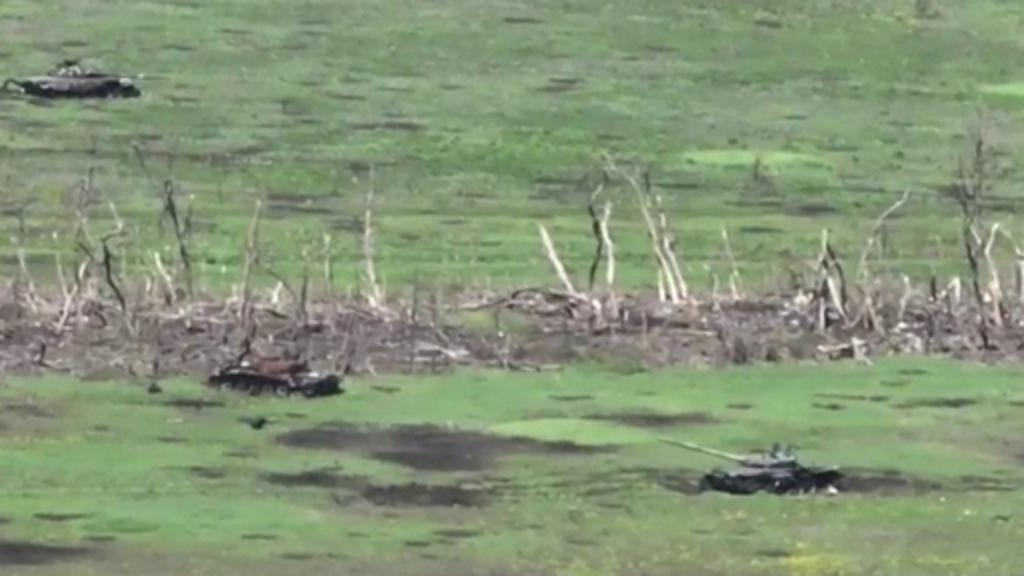TANK: (646, 422, 842, 504), (198, 334, 348, 406), (8, 56, 174, 108)
